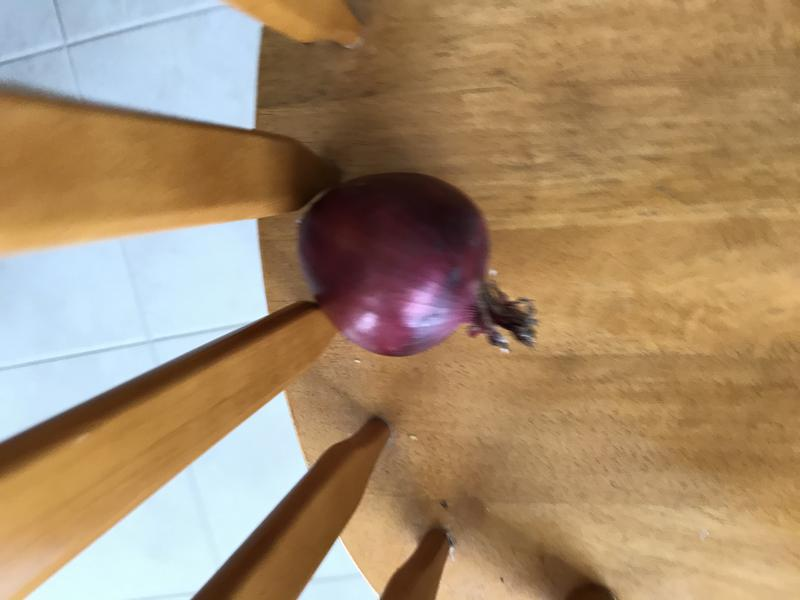purple_onion: (292, 166, 547, 369)
